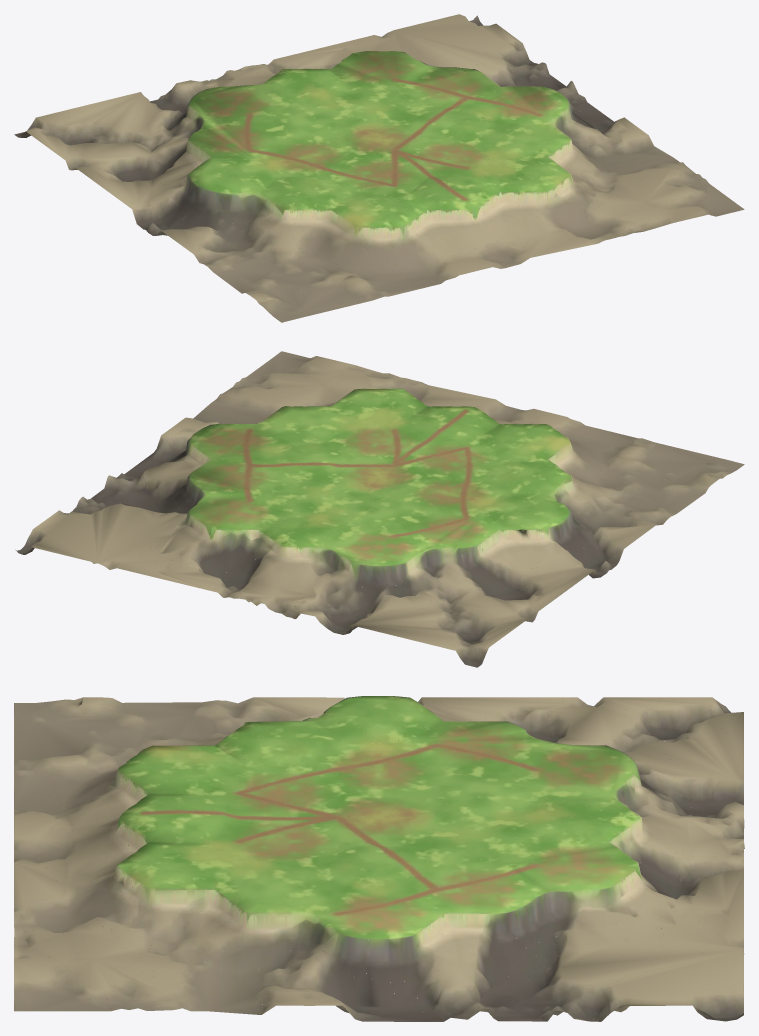
The model's file is terrain-garden.glb.
3 renders of one model, top to bottom at view 1: azimuth 30°, elevation 25°; view 2: azimuth 150°, elevation 25°; view 3: azimuth 270°, elevation 25°, orthographic. The views are drawn at different scales.
Parts seen in each view (by area): view 1: terrain-garden; view 2: terrain-garden; view 3: terrain-garden.
Part boxes in pixels (bbox=[...]): terrain-garden: bbox=[14, 14, 744, 322]; terrain-garden: bbox=[15, 351, 744, 667]; terrain-garden: bbox=[14, 696, 744, 1021].
Bounding box in the file's own units: 12.81 × 1.07 × 12.82.
1 material, 1 textured.
